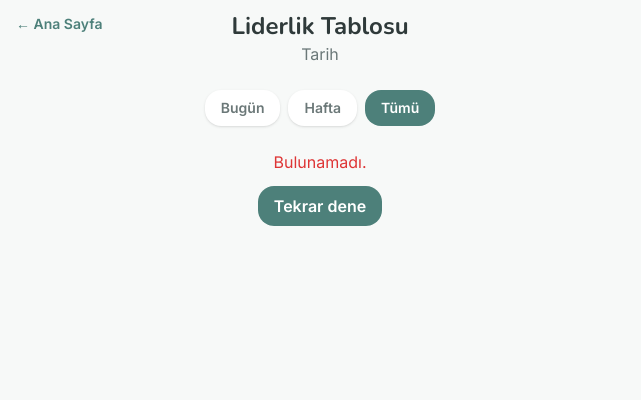
LeaderboardView › shows an error state with retry on failure
Click the button "Tekrar dene": {"x": 320, "y": 206} [258,186,382,226]
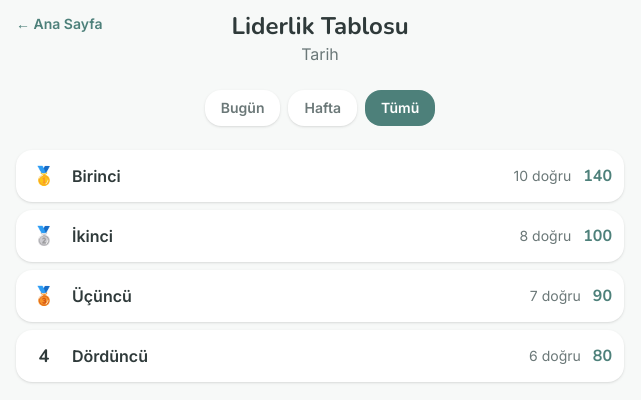
Expected: the text "Birinci" is shown, [72,166,121,186]
